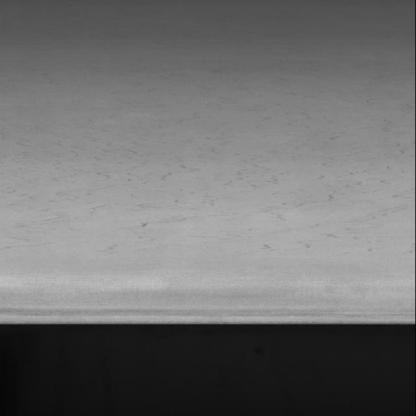silk_spot: (44, 141, 386, 248)
